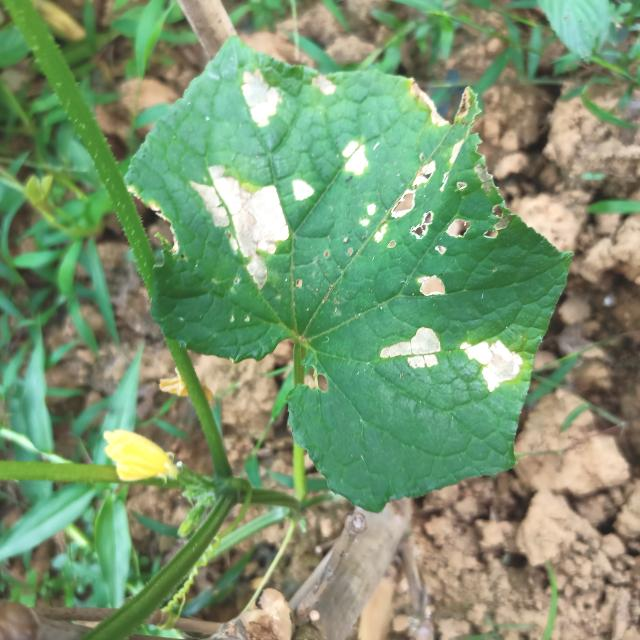disease_cucumber: (195, 163, 292, 283), (353, 156, 442, 251), (458, 330, 523, 395), (376, 322, 443, 375), (230, 70, 284, 130), (335, 137, 372, 181), (291, 171, 315, 206), (310, 72, 338, 98)
